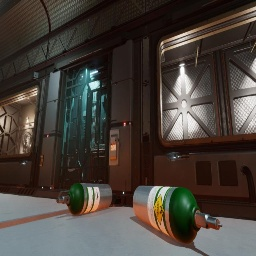0: (133, 186, 222, 244), (56, 183, 112, 215)
EmergencyPhone ,: (39, 153, 44, 166)
SafetySwitchPanel ,: (109, 129, 121, 166)
